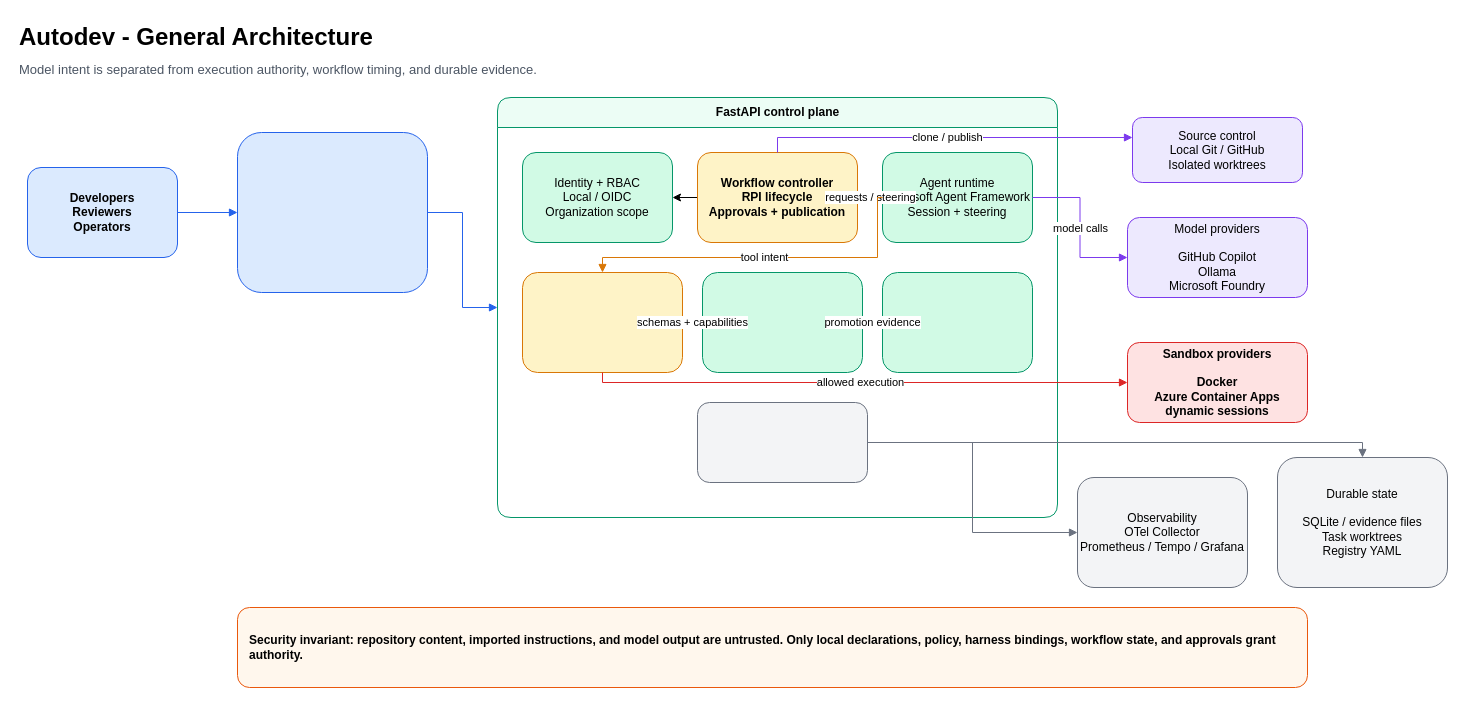
Image size: 1465x705. Some labels were removed from this diagram. Each missing label, with the centre of its shape:
"Evaluation + promotion Frozen datasets Native / Vally / Waza" goes at [957,322].
"Evidence + telemetry Events, artifacts, traces Cost and safety decisions" goes at [782,442].
"Experience surfaces Next.js Web UI agentctl CLI REST / OpenAPI MCP HTTP + SSE" goes at [332,212].
"Governance boundary Capability resolution ALLOW / DENY / APPROVAL" goes at [602,322].
"Registry + harness Agents, skills, policies Tool schemas + catalogs" goes at [782,322].
